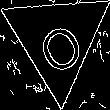O_NW: (28, 6, 86, 73)
